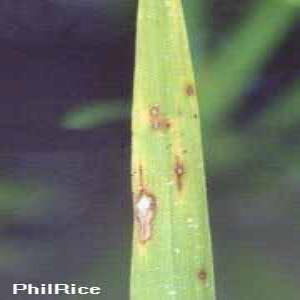Rice_Blast: (127, 179, 166, 249), (135, 99, 167, 138), (164, 149, 196, 187), (174, 78, 200, 110)
